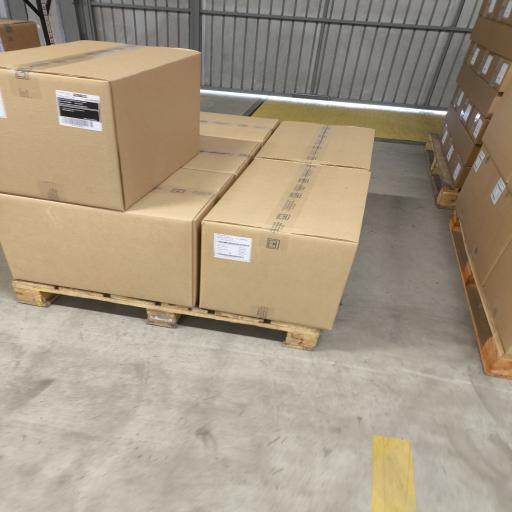pallet: (13, 280, 319, 350), (450, 212, 511, 378), (426, 134, 459, 209)
